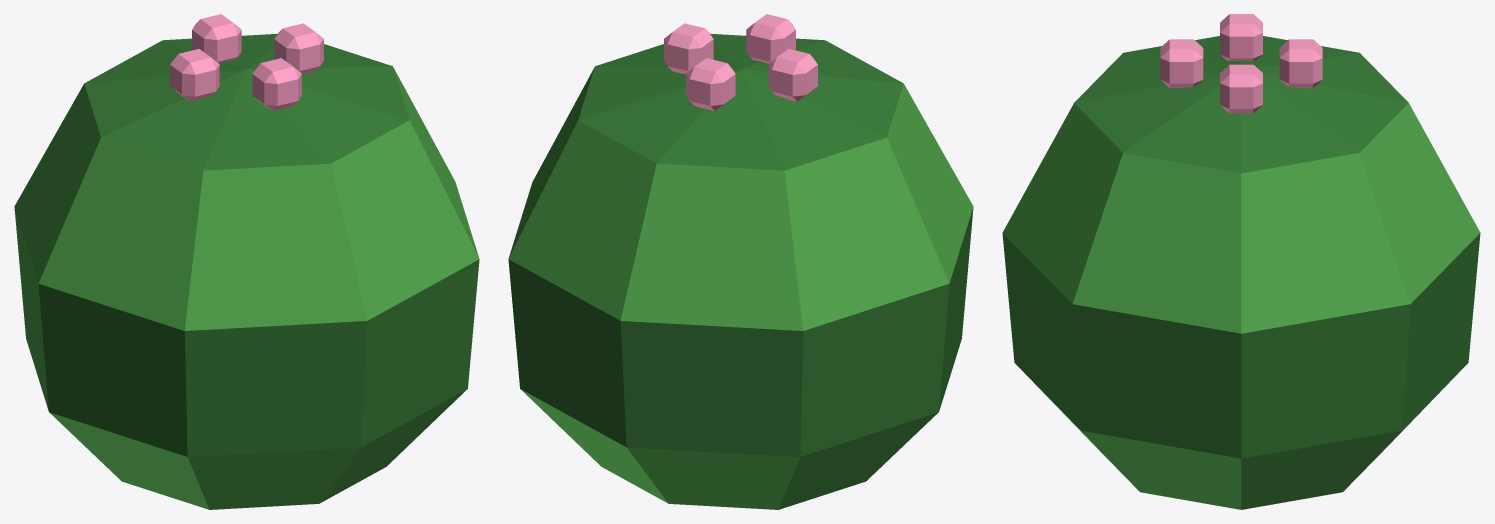
Rendered from BarrelCactus.fbx.
3 renders of one model, left to right at view 1: azimuth 30°, elevation 25°; view 2: azimuth 150°, elevation 25°; view 3: azimuth 270°, elevation 25°, orthographic.
Visible parts, largest first — view 1: BarrelCactus; view 2: BarrelCactus; view 3: BarrelCactus.
Part boxes in pixels (bbox=[...]): BarrelCactus: bbox=[14, 14, 479, 509]; BarrelCactus: bbox=[508, 14, 973, 509]; BarrelCactus: bbox=[1002, 14, 1480, 509].
Size of the model in its own units: 2 by 1.87 by 2.
Materials: 1 (1 with a texture image).
